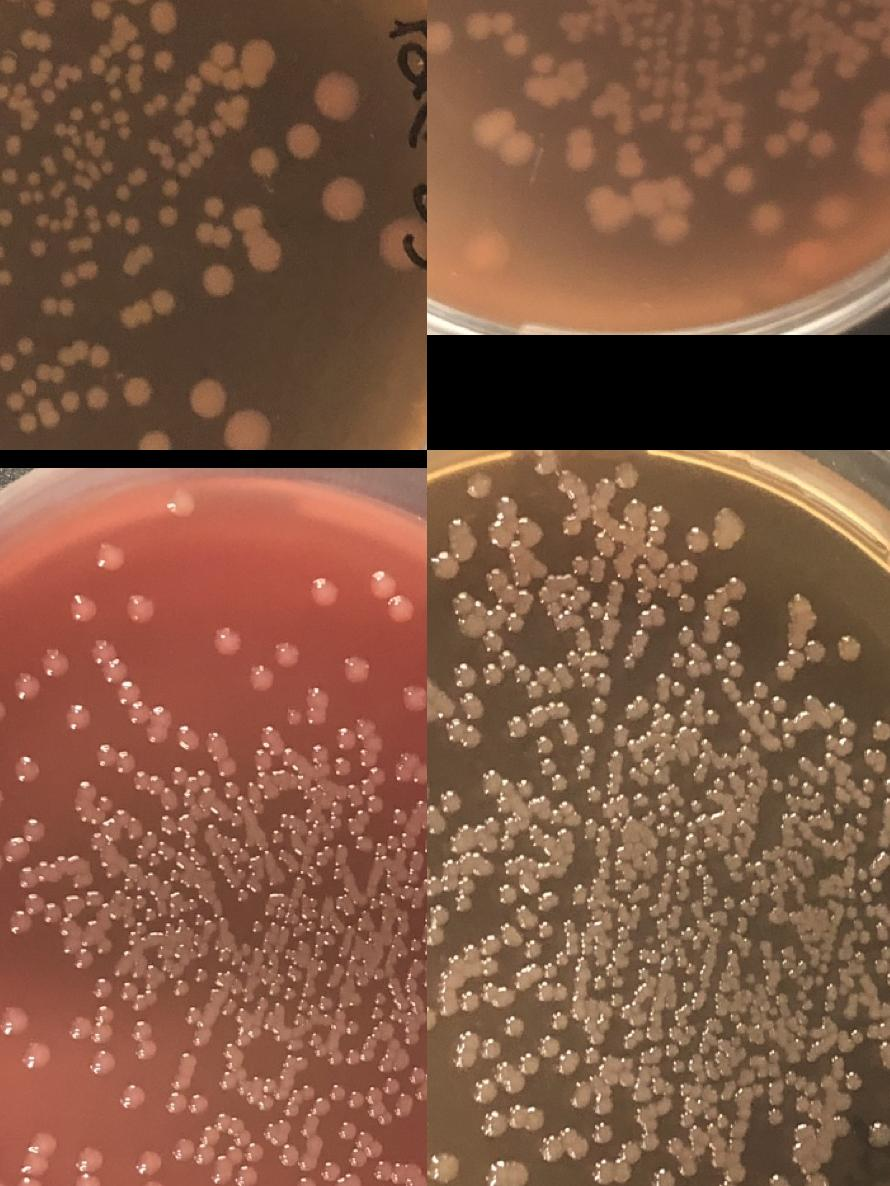pddamselae: (3, 376, 60, 434), (310, 68, 364, 126), (316, 170, 370, 228), (221, 405, 275, 450), (282, 119, 324, 165), (186, 378, 228, 416), (89, 0, 152, 22), (119, 374, 154, 410), (168, 118, 210, 148), (201, 262, 236, 298), (192, 221, 234, 249), (145, 0, 177, 35), (248, 144, 280, 178), (104, 210, 140, 236), (38, 295, 75, 318), (134, 429, 172, 450), (149, 286, 175, 316), (84, 385, 110, 413), (142, 92, 168, 118), (150, 48, 176, 74), (82, 202, 102, 234), (154, 202, 178, 228), (34, 212, 62, 234), (26, 0, 55, 21), (130, 243, 154, 267), (200, 195, 224, 219), (14, 188, 44, 206), (65, 236, 94, 254), (18, 26, 39, 50), (160, 178, 181, 200), (26, 237, 46, 260), (58, 391, 78, 413), (57, 268, 76, 290), (15, 337, 35, 355), (112, 182, 130, 202), (24, 170, 42, 188), (47, 366, 65, 384), (0, 167, 17, 185), (0, 266, 12, 288), (0, 353, 15, 370), (69, 105, 83, 121), (89, 100, 103, 116), (97, 116, 111, 132), (117, 124, 131, 140), (100, 159, 114, 174), (109, 86, 122, 102), (40, 90, 54, 104), (64, 123, 77, 137), (0, 241, 6, 263), (0, 82, 7, 100)
sinniae: (330, 726, 416, 858), (90, 638, 174, 751), (478, 564, 534, 690), (516, 1008, 580, 1078), (281, 1158, 401, 1186), (0, 1127, 55, 1186), (366, 566, 414, 629), (68, 1018, 118, 1077), (2, 894, 61, 942), (274, 1142, 342, 1183), (379, 1065, 427, 1120), (652, 801, 696, 860), (0, 821, 43, 879), (529, 950, 570, 1006), (168, 1126, 222, 1168), (662, 1022, 698, 1076), (712, 640, 744, 694), (230, 1141, 268, 1186), (720, 570, 748, 630), (591, 962, 624, 1008), (131, 1145, 168, 1186), (68, 1144, 104, 1186), (518, 920, 552, 964), (442, 716, 484, 751), (278, 702, 328, 730), (244, 1074, 275, 1114), (117, 1079, 150, 1115), (473, 1108, 507, 1142), (38, 644, 70, 680), (58, 699, 90, 735), (68, 589, 100, 625), (92, 538, 124, 574), (122, 589, 154, 625), (164, 484, 196, 520), (209, 621, 241, 657), (244, 660, 276, 696), (306, 575, 338, 611), (338, 652, 370, 688), (95, 744, 134, 773), (781, 1071, 820, 1100), (427, 1153, 460, 1186), (8, 670, 40, 704), (427, 552, 459, 586), (397, 680, 427, 716), (534, 732, 557, 778), (18, 1040, 51, 1072), (328, 1082, 365, 1110), (8, 754, 40, 786), (282, 1085, 314, 1117), (131, 1021, 156, 1061), (0, 1005, 29, 1038), (336, 1120, 370, 1148), (612, 458, 639, 493), (268, 640, 300, 668), (683, 521, 709, 555), (574, 744, 596, 784), (836, 630, 861, 664), (606, 1154, 632, 1186), (585, 696, 606, 735), (866, 1118, 890, 1152), (464, 471, 492, 500), (492, 880, 520, 909), (670, 621, 698, 649), (588, 1116, 614, 1146), (396, 877, 427, 902), (427, 922, 445, 965), (643, 1164, 678, 1186), (447, 891, 474, 919), (501, 713, 528, 741), (449, 661, 475, 690), (562, 880, 588, 909), (770, 659, 796, 688), (800, 637, 826, 666), (718, 895, 759, 913), (156, 785, 182, 813), (449, 590, 475, 618), (473, 1078, 499, 1106), (486, 522, 512, 550), (498, 1013, 524, 1041), (636, 1128, 662, 1156), (647, 501, 673, 529), (674, 590, 700, 618), (674, 557, 700, 585), (819, 733, 839, 769), (368, 988, 388, 1023), (438, 787, 463, 815), (476, 1035, 501, 1063), (534, 890, 559, 918), (558, 512, 583, 540), (702, 1105, 730, 1130), (200, 731, 226, 757), (213, 756, 239, 782), (235, 1023, 261, 1049), (858, 876, 882, 904), (858, 923, 890, 944), (770, 771, 797, 795), (322, 962, 345, 990), (271, 811, 290, 844), (868, 717, 890, 745), (871, 943, 890, 975), (317, 992, 334, 1025), (407, 760, 427, 788), (250, 744, 270, 770), (694, 836, 714, 862), (228, 877, 247, 904), (457, 991, 478, 1013), (583, 599, 604, 621), (214, 854, 241, 871), (766, 1169, 792, 1186), (803, 1169, 829, 1186), (631, 584, 651, 606), (694, 864, 714, 886), (837, 717, 857, 739), (751, 678, 769, 702), (716, 1080, 734, 1103), (18, 866, 38, 886), (165, 1092, 185, 1112), (175, 728, 195, 748), (188, 1094, 208, 1114), (386, 807, 406, 827), (480, 954, 498, 976), (498, 834, 516, 856), (570, 553, 588, 575), (580, 819, 598, 841), (584, 784, 602, 806), (610, 724, 628, 746), (427, 1004, 440, 1034), (131, 770, 150, 789), (279, 748, 299, 766), (310, 743, 328, 763), (328, 798, 346, 818), (356, 717, 374, 737), (402, 1030, 420, 1050), (293, 774, 310, 794), (296, 999, 316, 1016), (370, 966, 388, 984), (630, 791, 648, 809), (637, 758, 655, 776), (668, 680, 686, 698), (668, 650, 686, 668), (702, 706, 720, 724), (726, 869, 744, 887), (750, 860, 768, 878), (765, 1108, 783, 1126), (769, 696, 787, 714), (776, 942, 794, 960), (794, 754, 812, 772), (306, 1031, 322, 1051), (328, 1047, 344, 1067), (302, 806, 317, 826), (359, 1046, 374, 1066), (556, 718, 574, 734), (676, 924, 694, 940), (680, 962, 698, 978), (250, 917, 265, 936), (306, 866, 320, 886), (110, 890, 127, 906), (125, 863, 142, 879), (218, 1073, 235, 1089), (172, 980, 188, 996), (614, 924, 630, 940), (418, 832, 427, 860), (737, 727, 751, 745), (780, 732, 794, 750), (800, 994, 814, 1012), (800, 780, 814, 798), (822, 998, 836, 1016), (830, 800, 844, 818), (854, 866, 868, 884), (854, 810, 868, 828), (860, 778, 874, 796), (126, 822, 141, 838), (427, 671, 435, 701), (582, 1048, 597, 1064), (635, 946, 650, 962), (0, 692, 7, 725), (86, 890, 100, 906), (132, 996, 146, 1012), (96, 938, 110, 953), (293, 1056, 308, 1070), (299, 1124, 314, 1138), (313, 1096, 328, 1110), (690, 799, 704, 813), (698, 895, 712, 909), (712, 776, 726, 790), (728, 1034, 742, 1048), (774, 993, 788, 1007), (406, 938, 419, 953), (250, 801, 264, 814), (132, 896, 146, 908), (142, 908, 154, 922), (154, 839, 168, 851), (427, 857, 433, 885), (652, 918, 666, 930), (666, 784, 680, 796), (195, 969, 207, 982), (241, 992, 253, 1004), (673, 878, 687, 888), (680, 981, 694, 991), (421, 906, 427, 926), (420, 942, 427, 955)
vharveyi: (585, 176, 693, 241), (474, 115, 533, 166), (774, 70, 818, 115), (749, 200, 785, 236), (790, 238, 826, 274), (853, 140, 889, 176), (468, 234, 503, 270), (720, 161, 755, 197), (816, 193, 851, 229), (565, 127, 593, 171), (557, 10, 592, 44), (522, 75, 558, 107), (693, 145, 725, 179), (732, 45, 768, 74), (834, 36, 856, 80), (666, 98, 688, 135), (616, 152, 644, 179), (466, 14, 490, 40), (503, 32, 526, 58), (427, 25, 448, 53), (533, 52, 553, 74), (560, 60, 580, 82), (588, 98, 608, 120), (629, 53, 649, 75), (684, 134, 704, 156), (722, 128, 742, 150), (637, 104, 656, 126), (766, 134, 786, 154), (614, 115, 632, 137), (788, 119, 806, 141), (810, 134, 828, 154), (694, 58, 710, 74), (710, 23, 724, 39), (764, 32, 778, 48), (768, 0, 782, 16), (882, 34, 890, 56)
